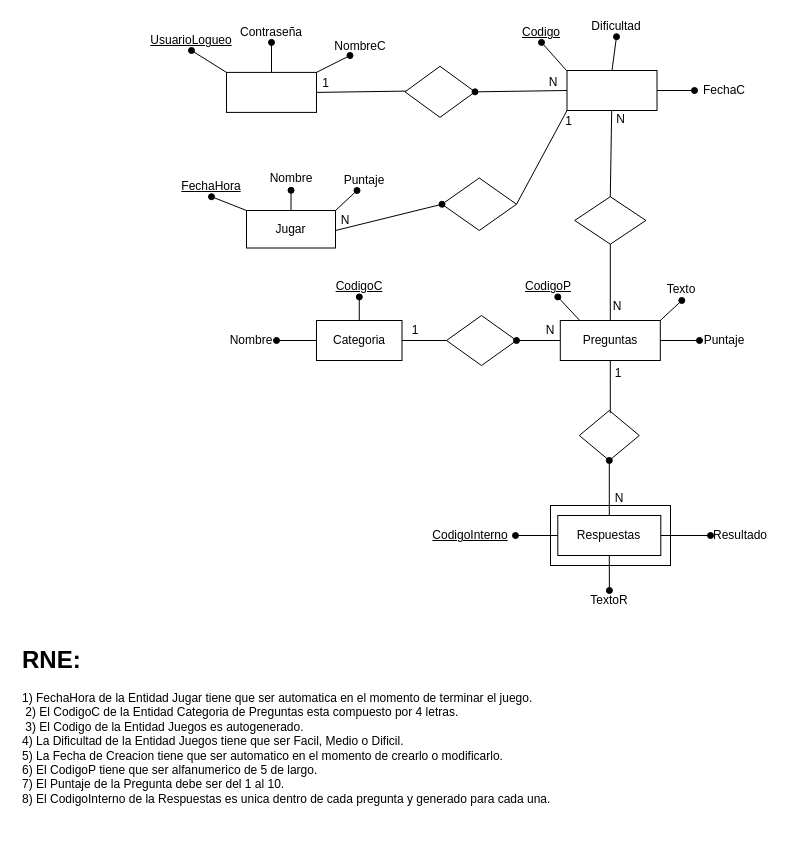
Image size: 787x848. Some labels were removed from this diagram. Each missing label, with the box of its shape:
Juegos: (566, 70, 657, 110)
Usuario: (226, 71, 316, 112)
